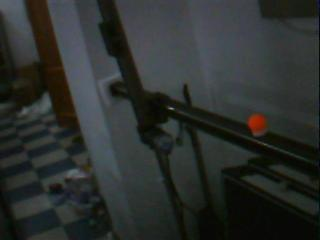oball: (248, 113, 267, 133)
